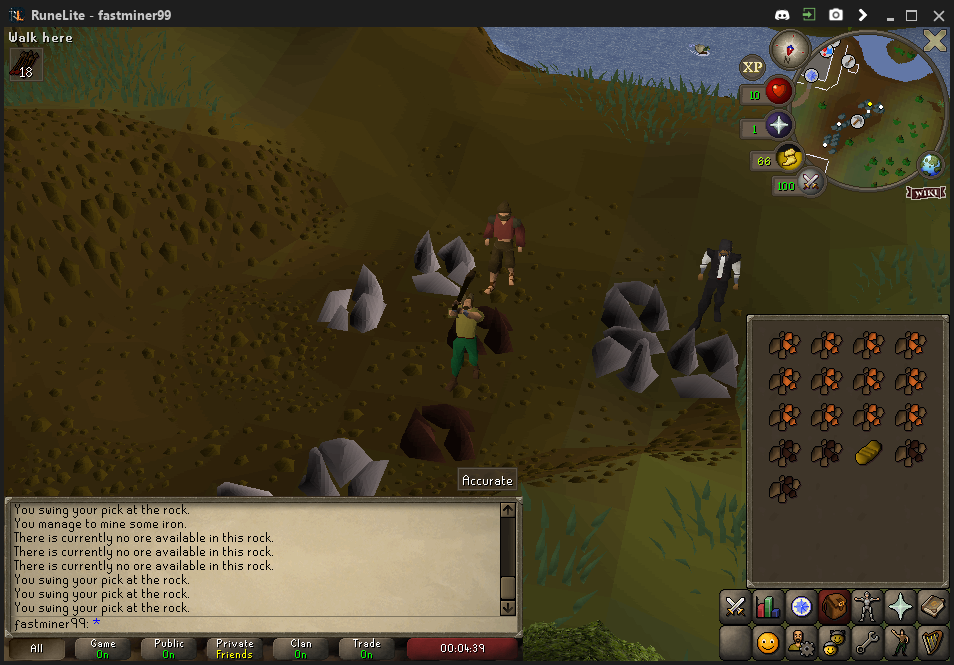ore: (398, 400, 483, 457), (442, 307, 515, 352)
